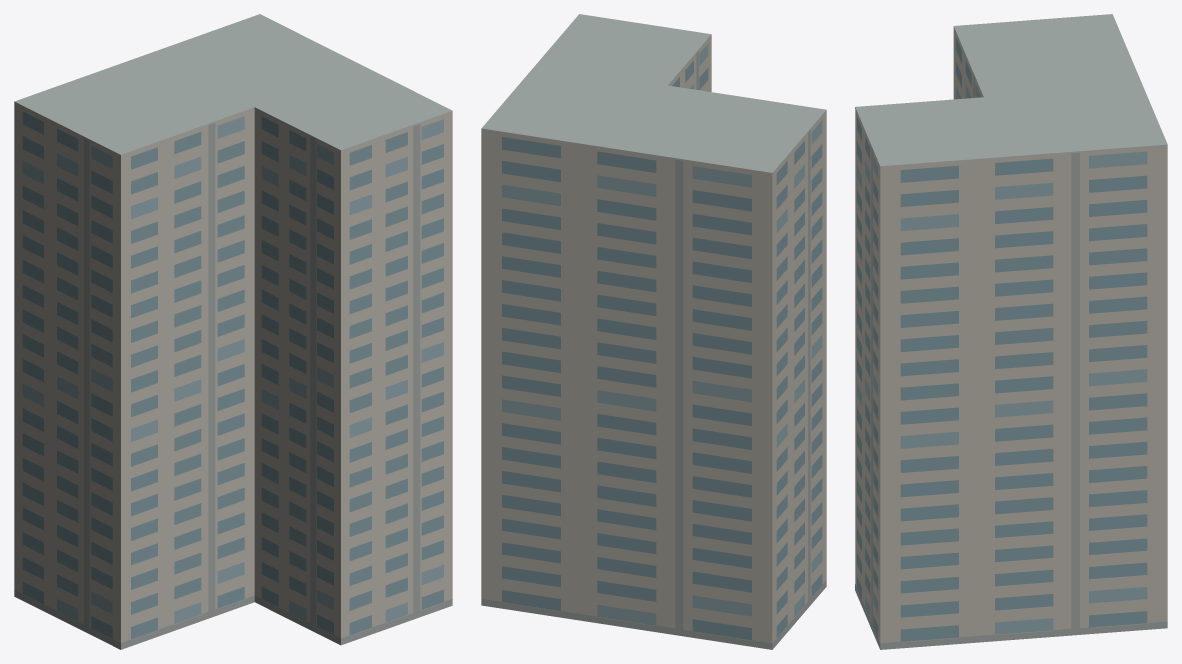
File: residential-49811f4b-6ce2-4d27-99fe-7fe3b5dd46dd.glb
3 views of the same model, side by side, from view 1: azimuth 30°, elevation 25°; view 2: azimuth 150°, elevation 25°; view 3: azimuth 270°, elevation 25° (orthographic). The views are drawn at different scales.
Parts seen in each view (by area): view 1: residential-49811f4b-6ce2-4d27-99fe-7fe3b5dd46dd.tmp; view 2: residential-49811f4b-6ce2-4d27-99fe-7fe3b5dd46dd.tmp; view 3: residential-49811f4b-6ce2-4d27-99fe-7fe3b5dd46dd.tmp.
Part boxes in pixels (box(x1,y1,x2,y2)): residential-49811f4b-6ce2-4d27-99fe-7fe3b5dd46dd.tmp: box(14, 14, 452, 649); residential-49811f4b-6ce2-4d27-99fe-7fe3b5dd46dd.tmp: box(481, 14, 826, 649); residential-49811f4b-6ce2-4d27-99fe-7fe3b5dd46dd.tmp: box(855, 14, 1167, 649).
Size of the model in its own units: 49.29 by 73 by 42.77.
